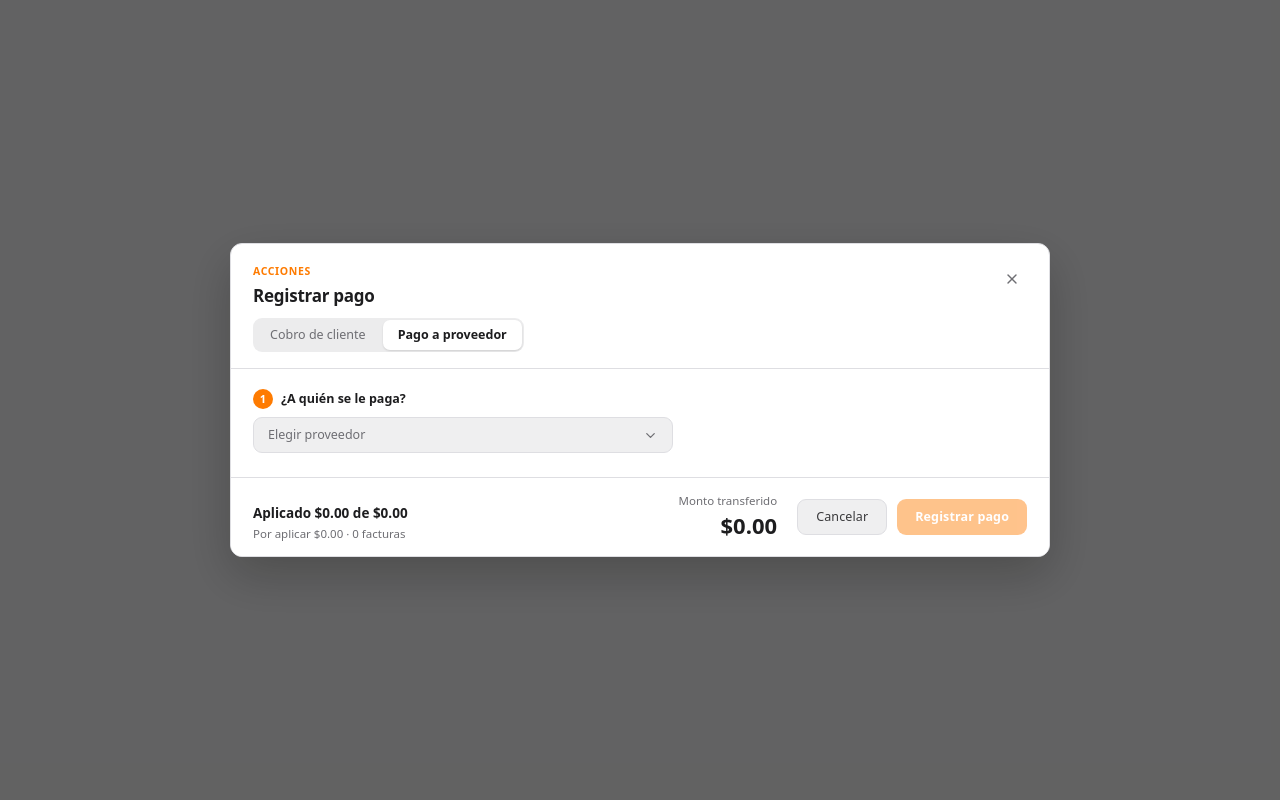
Registrar pago · pasos, reparto legible y pulido (#131) › las facturas con monto aplicado se abren solas y muestran lo que queda; las de $0 quedan cerradas
Click the button "Elegir proveedor" at (317, 434), box [253,417,673,453]
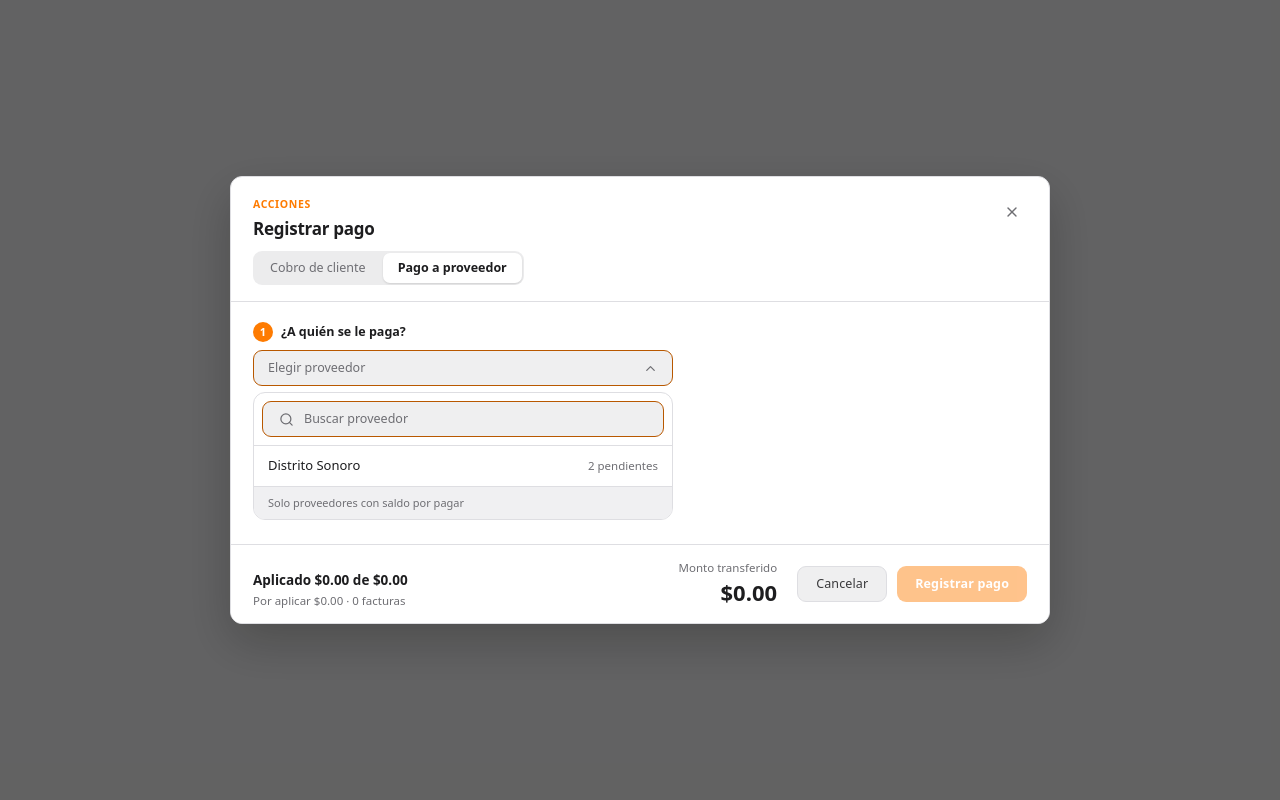
Click the option "Distrito Sonoro 2 pendientes" at (314, 465), box [254,446,672,486]
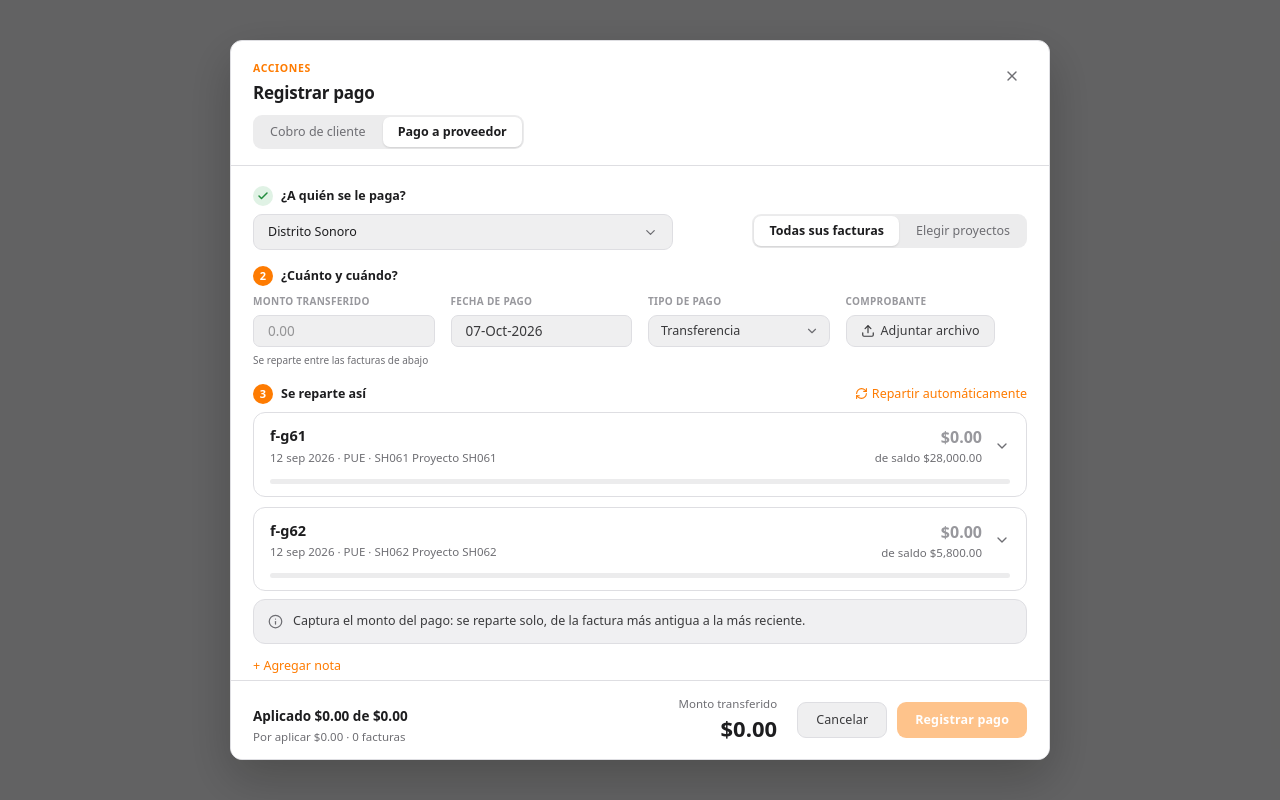
Expected: the field labelled "Monto transferido Se reparte entre las facturas de abajo" is shown
Type "28000" into the field labelled "Monto transferido Se reparte entre las facturas de abajo" at (344, 331), box [253,315,434,347]
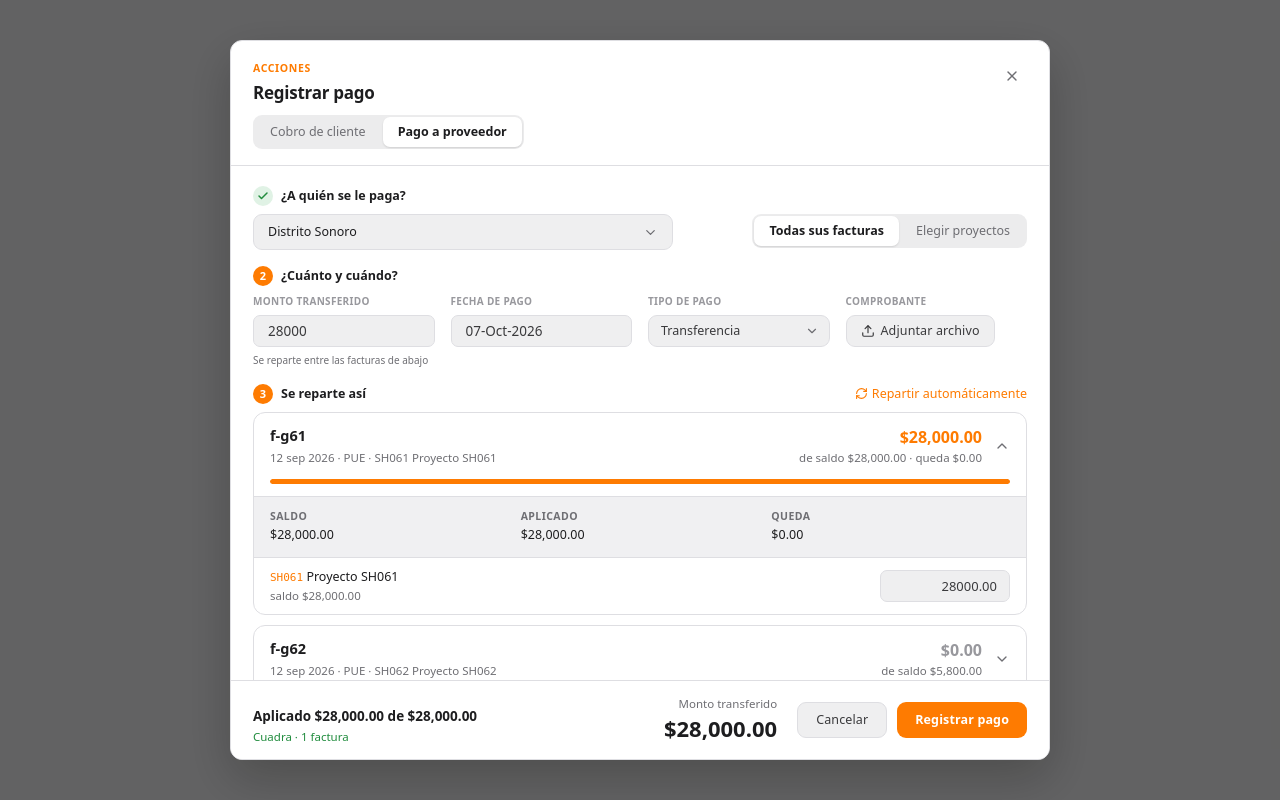
Expected: the text "de saldo $28,000.00 · queda $0.00" is shown, [799,449,982,467]
Expected: the field named "Aplicar a SH061" is shown, [880,570,1010,602]
Click the button that starts with "f-g62" at (288, 648), box [254,626,1026,691]
(page scrolled)
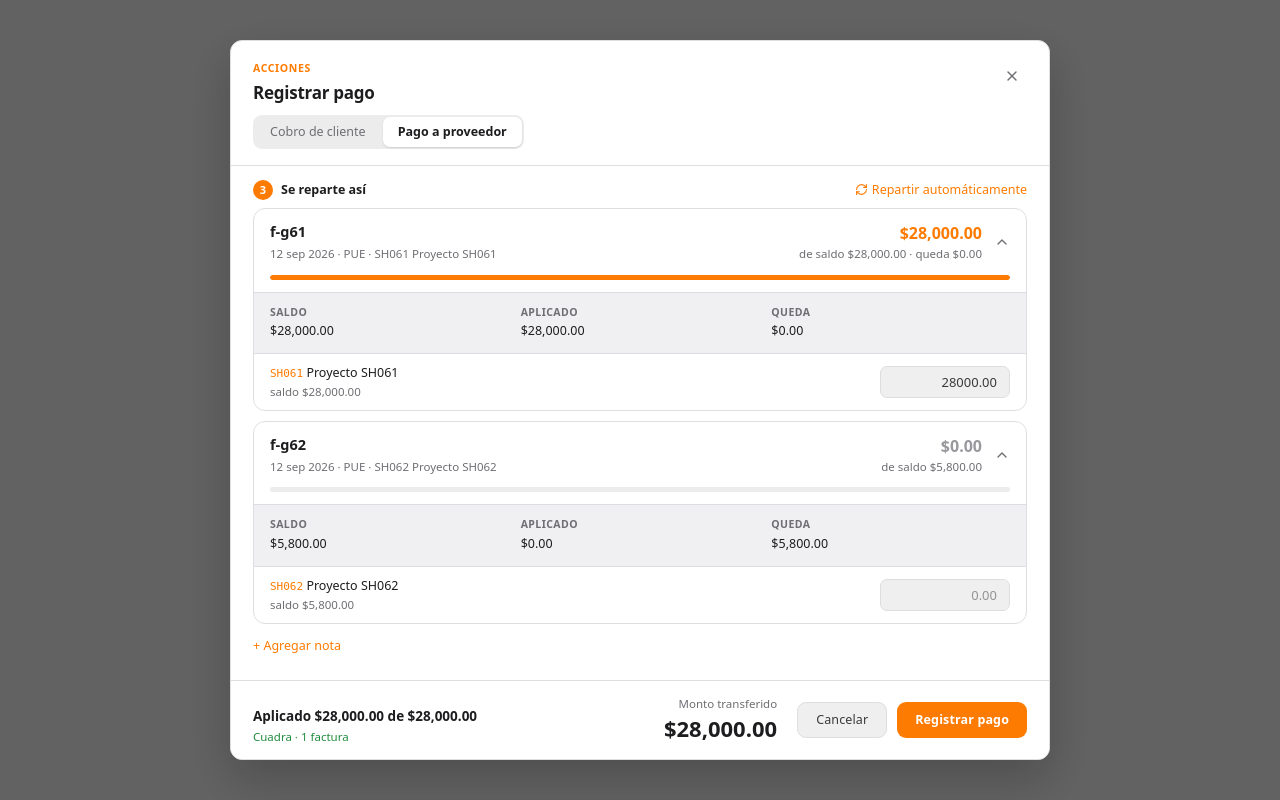
Expected: the field named "Aplicar a SH062" is shown, [880,579,1010,611]
